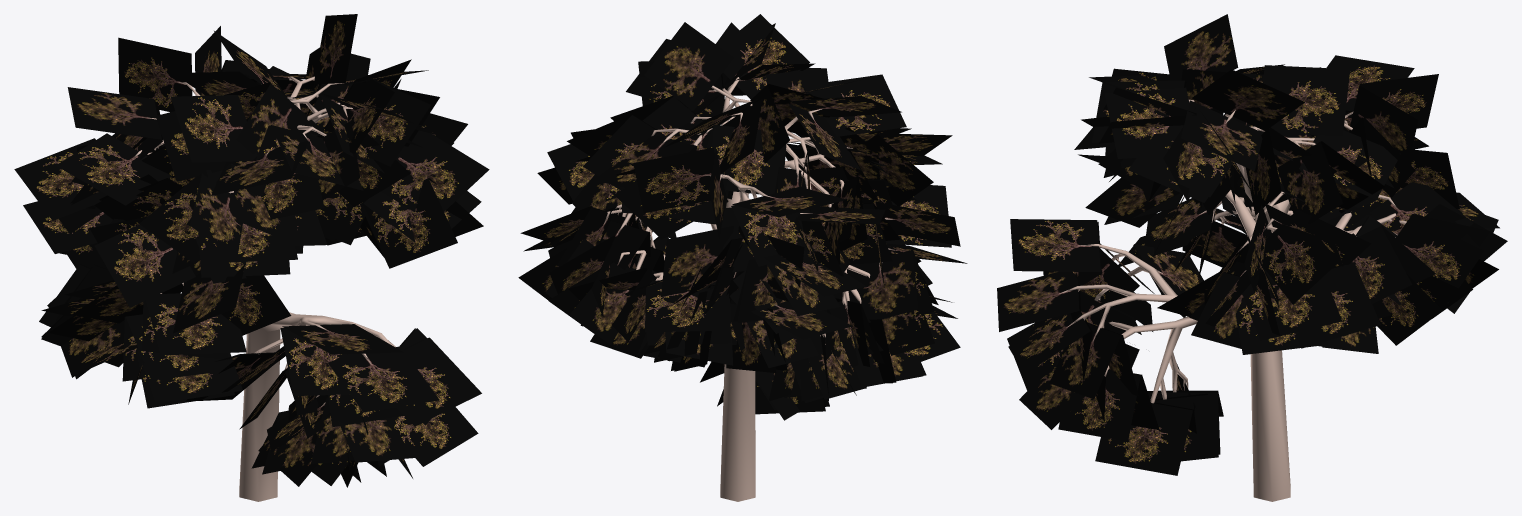
Rendered from tree1.glb.
The picture shows the model from 3 angles, left to right: view 1: azimuth 30°, elevation 25°; view 2: azimuth 150°, elevation 25°; view 3: azimuth 270°, elevation 25°; orthographic projection. The views are drawn at different scales.
Parts seen in each view (by area): view 1: Mesh_1.002, Mesh_0.002; view 2: Mesh_1.002, Mesh_0.002; view 3: Mesh_1.002, Mesh_0.002.
Part boxes in pixels (bbox=[...]): Mesh_1.002: bbox=[14, 14, 489, 487]; Mesh_0.002: bbox=[132, 76, 395, 501]; Mesh_1.002: bbox=[518, 14, 967, 420]; Mesh_0.002: bbox=[603, 77, 896, 501]; Mesh_1.002: bbox=[997, 14, 1507, 475]; Mesh_0.002: bbox=[1059, 99, 1406, 501].
Bounding box in the file's own units: 5.76 × 6.35 × 6.38.
Materials: 2 (1 with a texture image).
